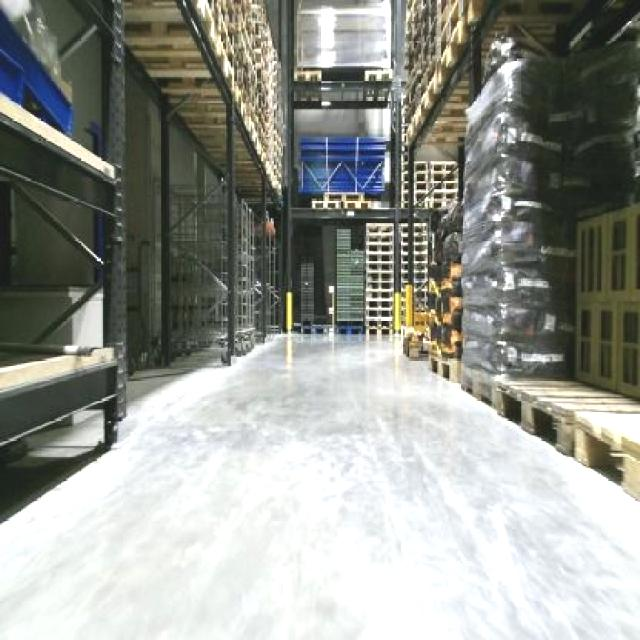floor: (0, 334, 637, 637)
pallets: (460, 55, 571, 374)
